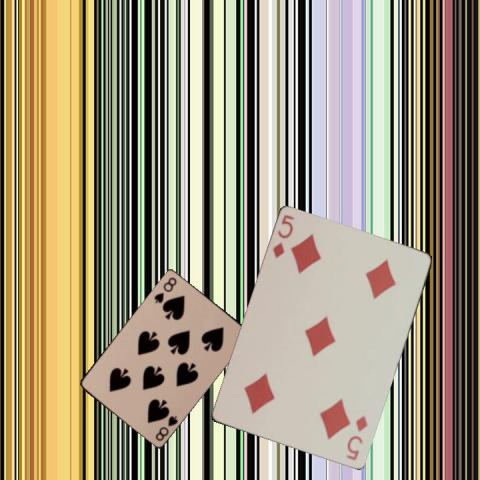5d: (343, 413, 369, 462), (270, 212, 295, 260)
8s: (151, 274, 178, 305), (152, 413, 179, 442)
